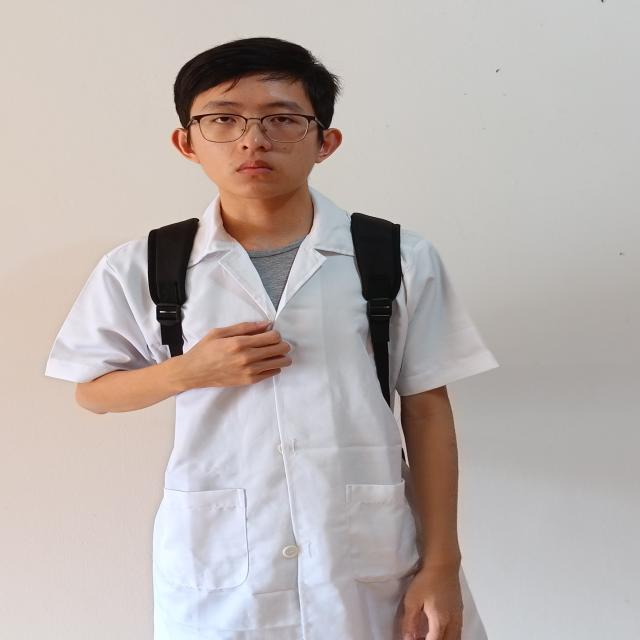person_with_labcoat: (46, 38, 496, 640)
